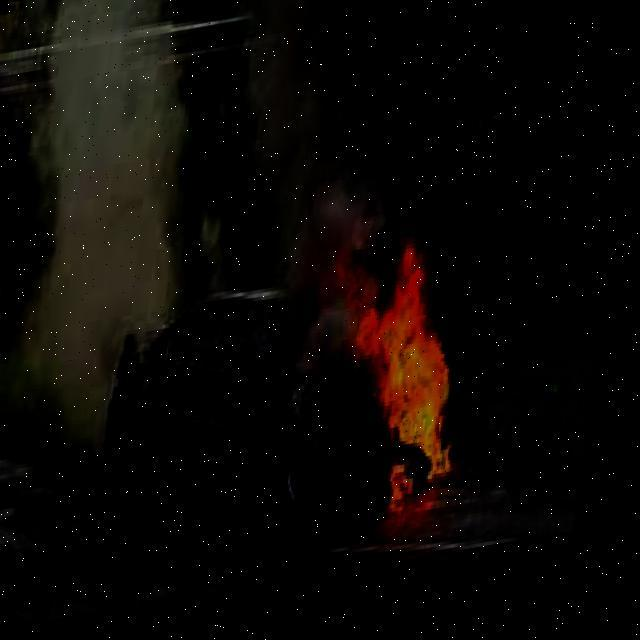Fire: (301, 200, 497, 534)
